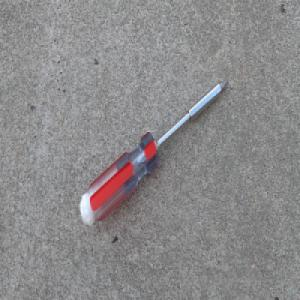Screwdriver: (78, 76, 229, 228)
